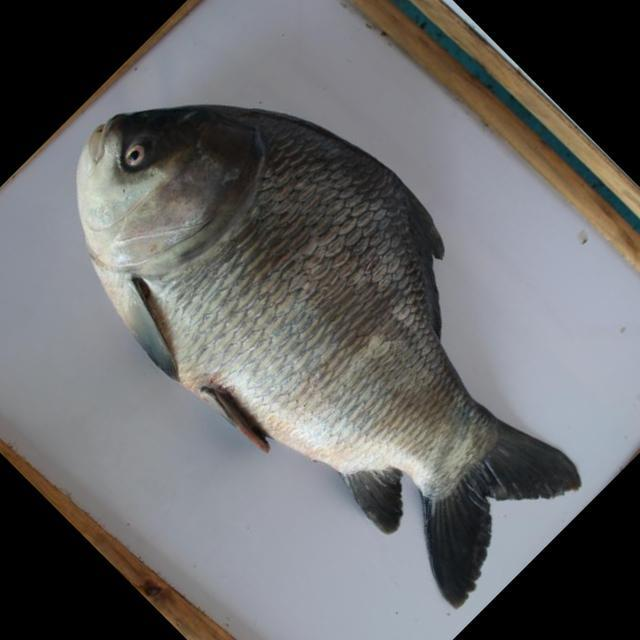Catla: (73, 107, 587, 599)
